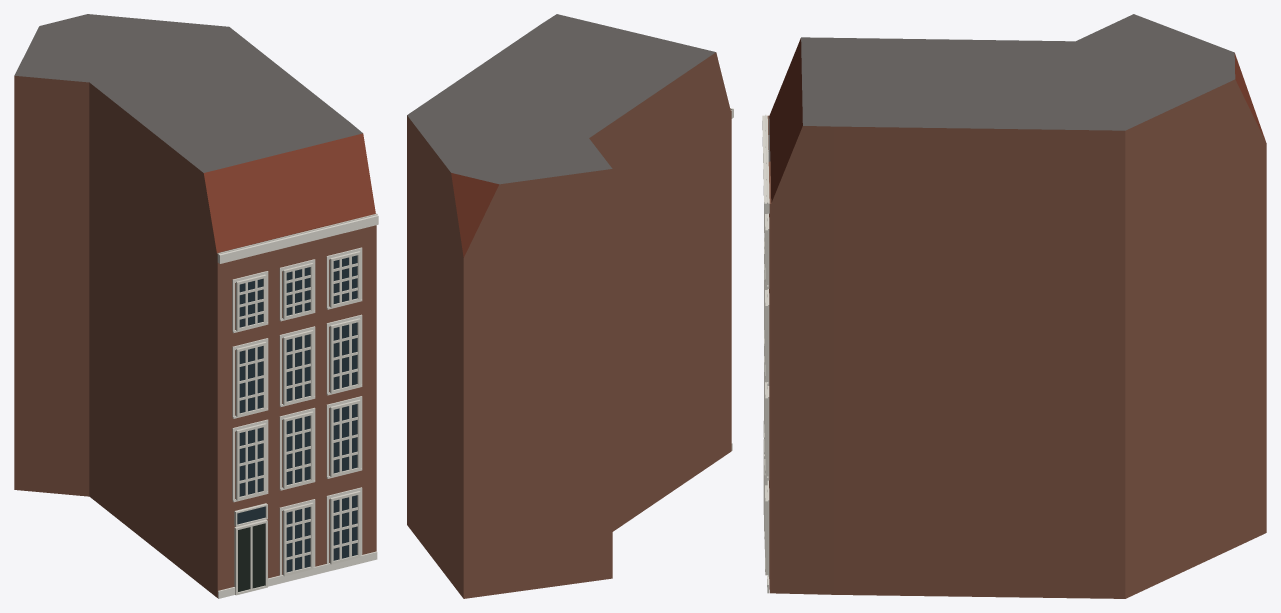
The picture shows the model from 3 angles, left to right: view 1: azimuth 30°, elevation 25°; view 2: azimuth 150°, elevation 25°; view 3: azimuth 270°, elevation 25°; orthographic projection. The views are drawn at different scales.
Parts seen in each view (by area): view 1: spec-0363100012174698; view 2: spec-0363100012174698; view 3: spec-0363100012174698.
Boxes of the visible parts, <box> form: spec-0363100012174698: <box>14,14,378,598</box>; spec-0363100012174698: <box>407,14,733,598</box>; spec-0363100012174698: <box>762,14,1266,598</box>.
Bounding box in the file's own units: 8.94 × 16.73 × 16.32.
